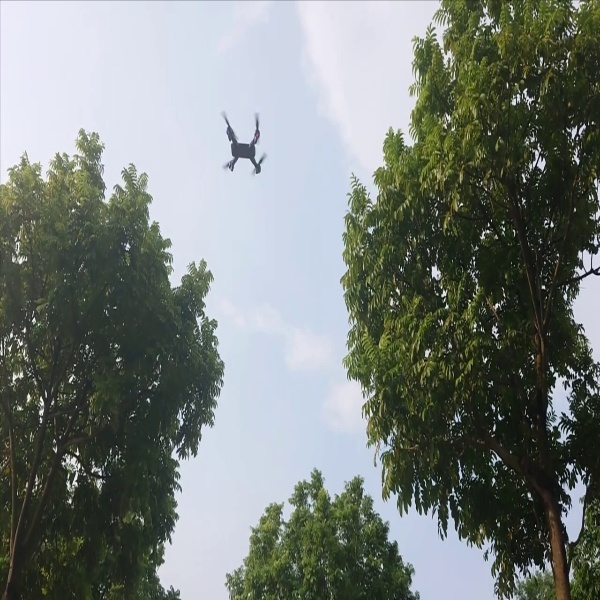drone: (206, 103, 281, 184)
